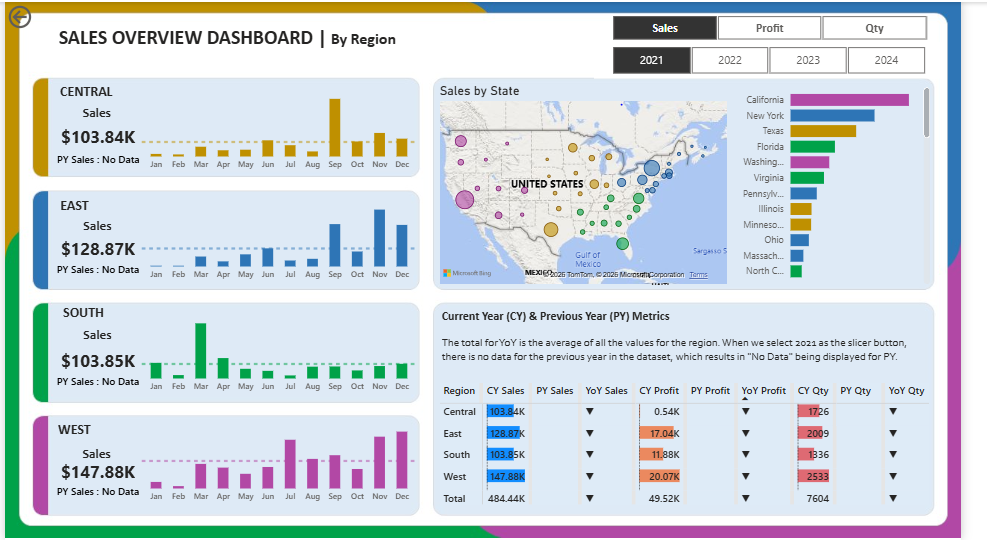

The page's visual inventory and layout, read from the dashboard file:
{"tool":"powerbi","page":{"name":"Page 1","canvas":[1280,720],"ordinal":0},"visuals":[{"type":"slicer","fields":{"Values":["Select Metric.Select Metric"]},"box":[787.8,11.8,468.7,42],"z":0},{"type":"textbox","box":[57.1,102.5,102.5,45.4],"z":1000},{"type":"cardVisual","fields":{"Data":["Sales Data.Total Sales"]},"box":[45.4,147.3,158.3,61.9],"z":2000},{"type":"slicer","fields":{"Values":["Calendar Table.Year"]},"box":[787.8,53.8,467,48.7],"z":3000},{"type":"cardVisual","fields":{"Data":["Sales Data.Dynamic Title"]},"box":[68.9,120.9,109.2,52.1],"z":4000},{"type":"cardVisual","fields":{"Data":["Sales Data.PY KPI Sales"]},"box":[38.5,181.7,172,53.7],"z":5000},{"type":"clusteredColumnChart","fields":{"Y":["Sales Data.Total Sales"],"Category":["Calendar Table.Month"]},"box":[178.1,102.5,378,132.7],"z":6000},{"type":"textbox","box":[38.6,26.9,517.4,53.8],"z":7000},{"type":"clusteredColumnChart","fields":{"Y":["Sales Data.Total Sales"],"Category":["Calendar Table.Month"]},"box":[178.1,250.3,378,132.7],"z":8000},{"type":"cardVisual","fields":{"Data":["Sales Data.PY KPI Sales"]},"box":[38.6,329.2,171.3,53.8],"z":9000},{"type":"cardVisual","fields":{"Data":["Sales Data.Total Sales"]},"box":[38.6,299,171.3,60.5],"z":10000},{"type":"cardVisual","fields":{"Data":["Sales Data.Dynamic Title"]},"box":[70.2,271.1,108.7,52.3],"z":11000},{"type":"textbox","box":[26.2,256,132.1,41.3],"z":12000},{"type":"cardVisual","fields":{"Data":["Sales Data.Dynamic Title"]},"box":[70.2,417,108.7,52.3],"z":13000},{"type":"clusteredColumnChart","fields":{"Y":["Sales Data.Total Sales"],"Category":["Calendar Table.Month"]},"box":[178.1,399.8,378,132.7],"z":14000},{"type":"cardVisual","fields":{"Data":["Sales Data.PY KPI Sales"]},"box":[38.6,478.7,171.3,53.8],"z":15000},{"type":"cardVisual","fields":{"Data":["Sales Data.Total Sales"]},"box":[38.6,448.5,171.3,60.5],"z":16000},{"type":"textbox","box":[56.4,399.1,97.7,35.8],"z":17000},{"type":"clusteredColumnChart","fields":{"Y":["Sales Data.Total Sales"],"Category":["Calendar Table.Month"]},"box":[178.1,547.6,378,132.7],"z":18000},{"type":"cardVisual","fields":{"Data":["Sales Data.PY KPI Sales"]},"box":[38.6,626.6,171.3,53.8],"z":19000},{"type":"cardVisual","fields":{"Data":["Sales Data.Total Sales"]},"box":[38.6,596.3,171.3,60.5],"z":20000},{"type":"cardVisual","fields":{"Data":["Sales Data.Dynamic Title"]},"box":[67.4,576.7,111.5,52.3],"z":21000},{"type":"textbox","box":[26.2,556,132.1,39.9],"z":22000},{"type":"map","title":"Sales by State","fields":{"Size":["Sales Data.Total Sales"],"Category":["Sales Data.State/Province"],"Series":["Sales Data.Region"]},"box":[576.7,108.7,393.6,273.9],"z":23000},{"type":"barChart","fields":{"Y":["Sales Data.Total Sales"],"Category":["Sales Data.State/Province"],"Series":["Sales Data.Region"]},"box":[970.3,101.8,272.5,280.8],"z":24000},{"type":"pivotTable","fields":{"Rows":["Sales Data.Region"],"Values":["Sales Data.CY Sales","Sales Data.PY Sales","Sales Data.YoY Sales","Sales Data.CY Profit","Sales Data.PY Profit","Sales Data.YoY Profit","Sales Data.CY Qty","Sales Data.PY Qty","Sales Data.YoY Qty"]},"box":[576.7,505.1,703.3,210.6],"z":25000},{"type":"actionButton","box":[0,0,100,40],"z":26000},{"type":"textbox","box":[580,406,666.2,82],"z":27000}]}

Visuals, with their boxes in screenshot pixels (x1, y1, x2, y2), scaled from the page's 1280x720 canvas onto the 987x540 screenshot:
slicer - Select Metric.Select Metric: (x1=607, y1=9, x2=969, y2=40)
textbox: (x1=44, y1=77, x2=123, y2=111)
cardVisual - Sales Data.Total Sales: (x1=35, y1=110, x2=157, y2=157)
slicer - Calendar Table.Year: (x1=607, y1=40, x2=968, y2=77)
cardVisual - Sales Data.Dynamic Title: (x1=53, y1=91, x2=137, y2=130)
cardVisual - Sales Data.PY KPI Sales: (x1=30, y1=136, x2=162, y2=177)
clusteredColumnChart - Sales Data.Total Sales x Calendar Table.Month: (x1=137, y1=77, x2=429, y2=176)
textbox: (x1=30, y1=20, x2=429, y2=61)
clusteredColumnChart - Sales Data.Total Sales x Calendar Table.Month: (x1=137, y1=188, x2=429, y2=287)
cardVisual - Sales Data.PY KPI Sales: (x1=30, y1=247, x2=162, y2=287)
cardVisual - Sales Data.Total Sales: (x1=30, y1=224, x2=162, y2=270)
cardVisual - Sales Data.Dynamic Title: (x1=54, y1=203, x2=138, y2=243)
textbox: (x1=20, y1=192, x2=122, y2=223)
cardVisual - Sales Data.Dynamic Title: (x1=54, y1=313, x2=138, y2=352)
clusteredColumnChart - Sales Data.Total Sales x Calendar Table.Month: (x1=137, y1=300, x2=429, y2=399)
cardVisual - Sales Data.PY KPI Sales: (x1=30, y1=359, x2=162, y2=399)
cardVisual - Sales Data.Total Sales: (x1=30, y1=336, x2=162, y2=382)
textbox: (x1=43, y1=299, x2=119, y2=326)
clusteredColumnChart - Sales Data.Total Sales x Calendar Table.Month: (x1=137, y1=411, x2=429, y2=510)
cardVisual - Sales Data.PY KPI Sales: (x1=30, y1=470, x2=162, y2=510)
cardVisual - Sales Data.Total Sales: (x1=30, y1=447, x2=162, y2=493)
cardVisual - Sales Data.Dynamic Title: (x1=52, y1=433, x2=138, y2=472)
textbox: (x1=20, y1=417, x2=122, y2=447)
"Sales by State" map: (x1=445, y1=82, x2=748, y2=287)
barChart - Sales Data.Total Sales x Sales Data.State/Province: (x1=748, y1=76, x2=958, y2=287)
pivotTable - Sales Data.Region x Sales Data.CY Sales: (x1=445, y1=379, x2=986, y2=537)
actionButton: (x1=0, y1=0, x2=77, y2=30)
textbox: (x1=447, y1=304, x2=961, y2=366)
